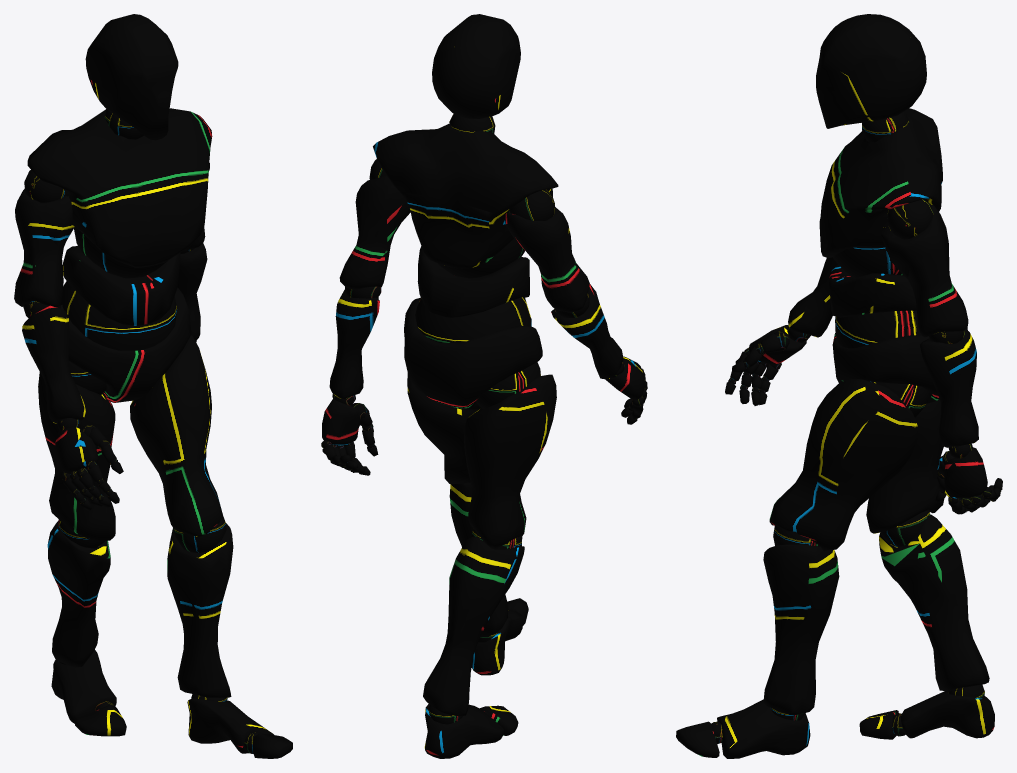
The model's file is y-bot-origin_000016.obj.
The picture shows the model from 3 angles, left to right: view 1: azimuth 30°, elevation 25°; view 2: azimuth 150°, elevation 25°; view 3: azimuth 270°, elevation 25°; orthographic projection. The views are drawn at different scales.
Parts seen in each view (by area): view 1: Alpha_Surface_Alpha_SurfaceMesh, Alpha_Joints_Alpha_JointsMesh; view 2: Alpha_Surface_Alpha_SurfaceMesh, Alpha_Joints_Alpha_JointsMesh; view 3: Alpha_Surface_Alpha_SurfaceMesh, Alpha_Joints_Alpha_JointsMesh.
Part boxes in pixels (box(x1,y1,x2,y2)): Alpha_Surface_Alpha_SurfaceMesh: box(14, 14, 292, 758); Alpha_Joints_Alpha_JointsMesh: box(23, 109, 258, 753); Alpha_Surface_Alpha_SurfaceMesh: box(322, 14, 647, 758); Alpha_Joints_Alpha_JointsMesh: box(321, 114, 647, 724); Alpha_Surface_Alpha_SurfaceMesh: box(676, 14, 1002, 758); Alpha_Joints_Alpha_JointsMesh: box(711, 111, 1001, 743).
Bounding box in the file's own units: 0.5947 × 1.78 × 0.7259.
